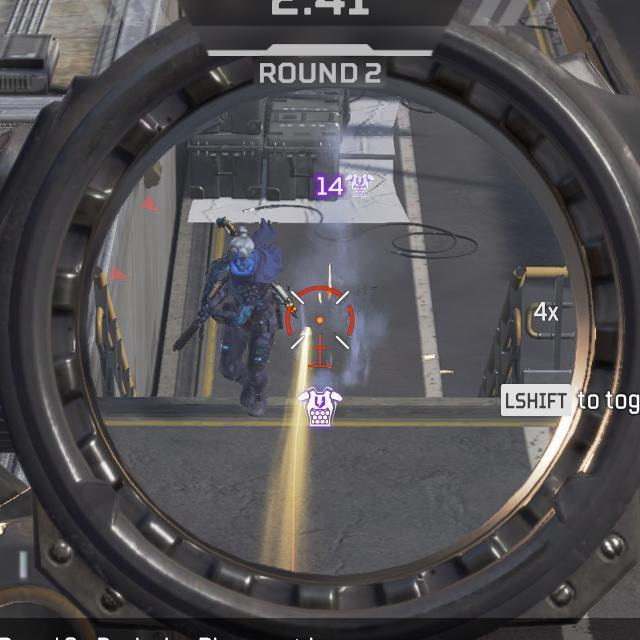avatar: (196, 222, 286, 417)
